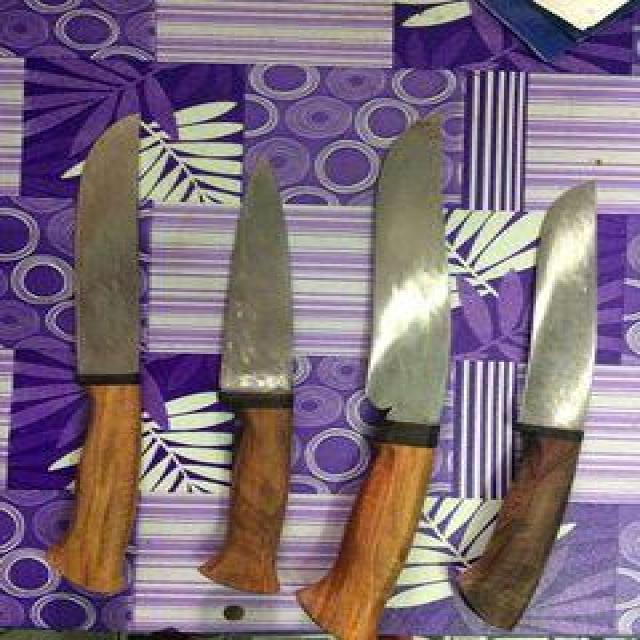Pisau: (287, 104, 463, 636)
